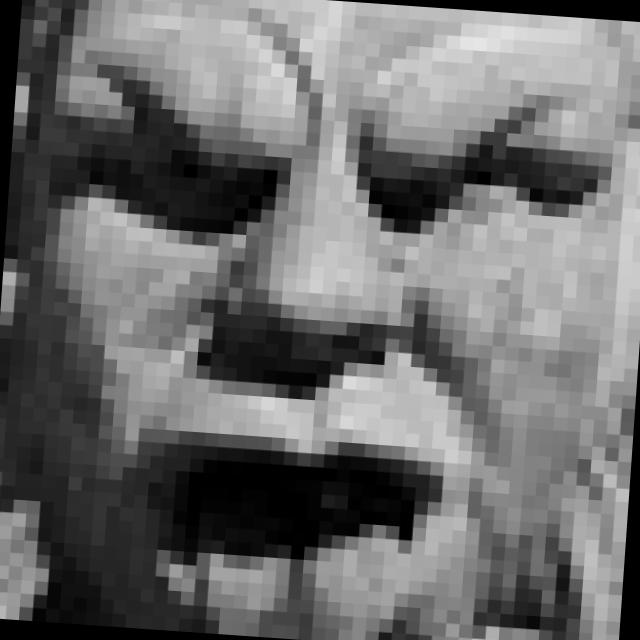disgust: (16, 47, 605, 640)
